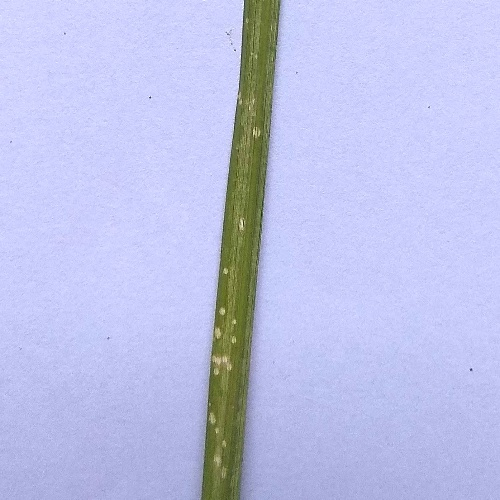Busuk Leher: (205, 352, 236, 380), (213, 447, 232, 483), (200, 406, 220, 427), (209, 320, 227, 342), (252, 120, 268, 143), (219, 263, 238, 281), (238, 211, 252, 234)
